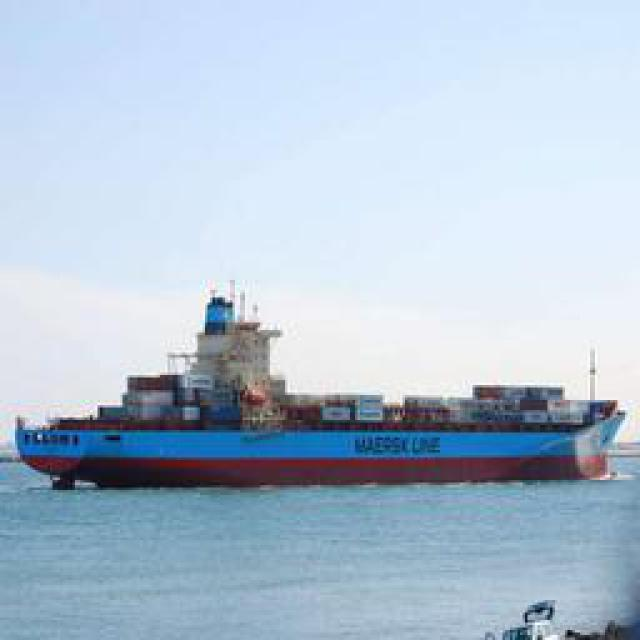Ship: (8, 330, 633, 488)
